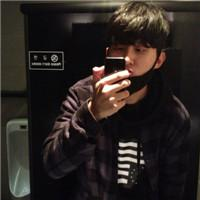WRONG: (107, 36, 160, 92)
